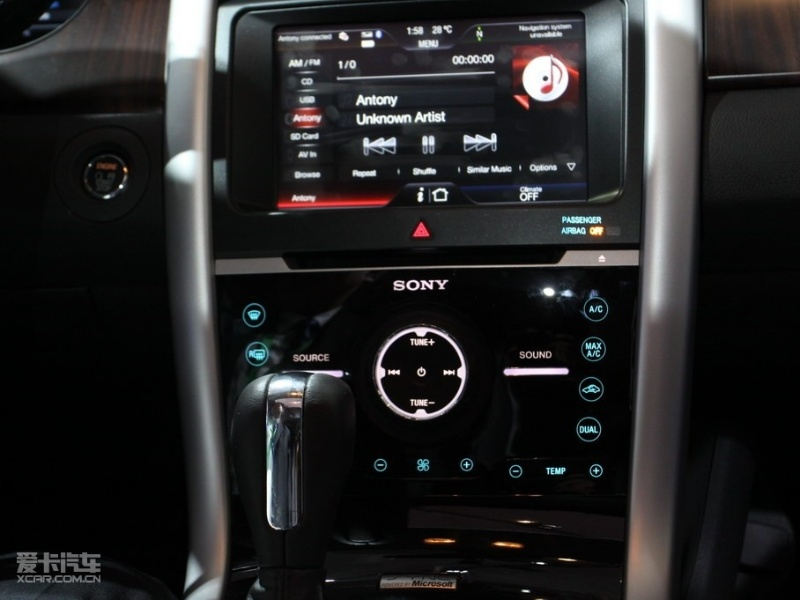control_center: (203, 1, 657, 481)
gear_lever: (193, 372, 370, 598)
